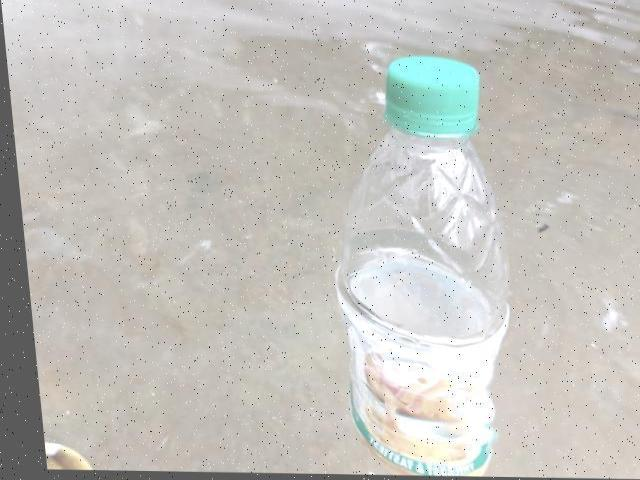Bottle: (327, 49, 520, 480)
